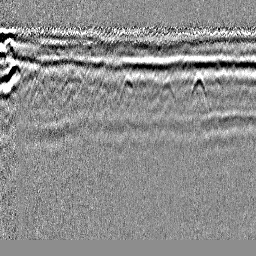cavity: (118, 72, 139, 103)
